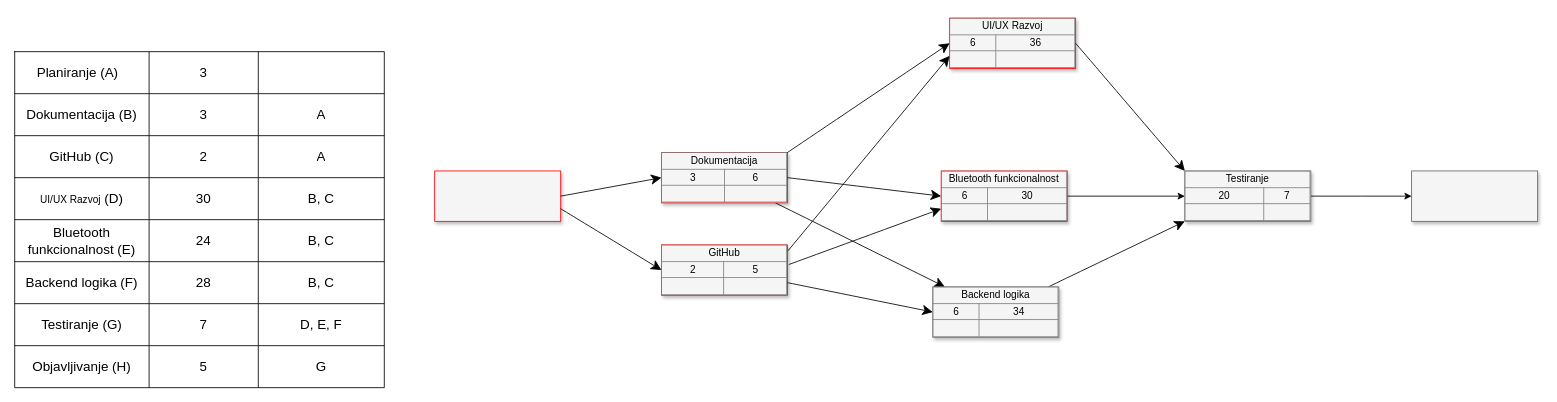
The diagram is 1557 pixels wide and 402 high, and some of its shapes have lost their labels. Here are the shapes that lost their labels. From the top down, the centre of each, then its label:
At point 498,197: "Planiranje 0 3".
At point 1475,197: "Objavljivanje 20 5".
